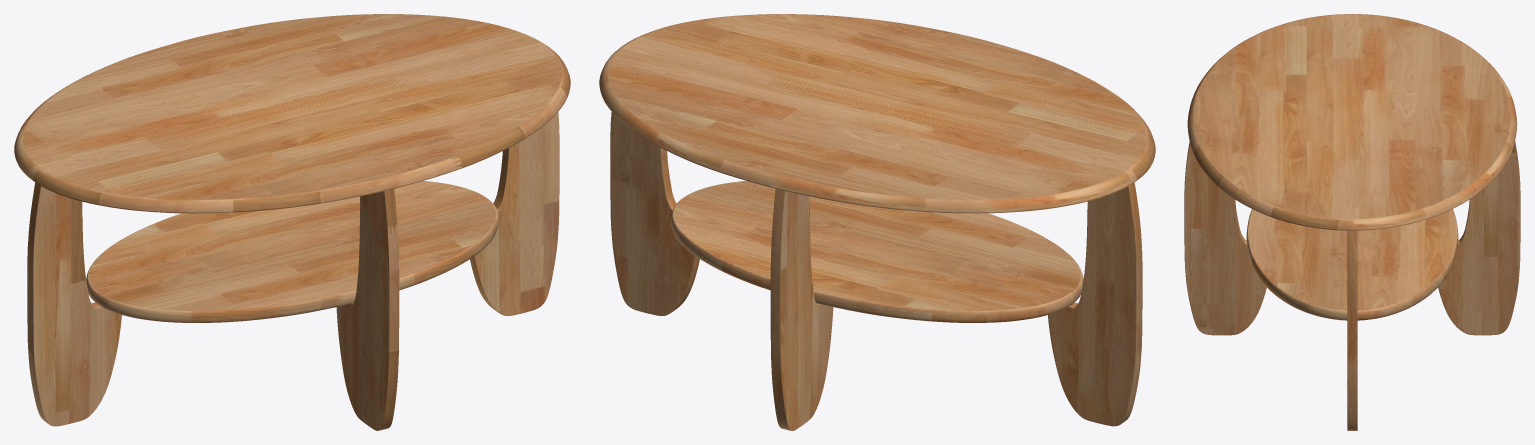
The model's file is abo-B07SG5G5JJ.glb.
The picture shows the model from 3 angles, left to right: view 1: azimuth 30°, elevation 25°; view 2: azimuth 150°, elevation 25°; view 3: azimuth 270°, elevation 25°; orthographic projection. The views are drawn at different scales.
Bounding box in the file's own units: 1.04 × 0.49 × 0.69.
Materials: 1 (1 with a texture image).
